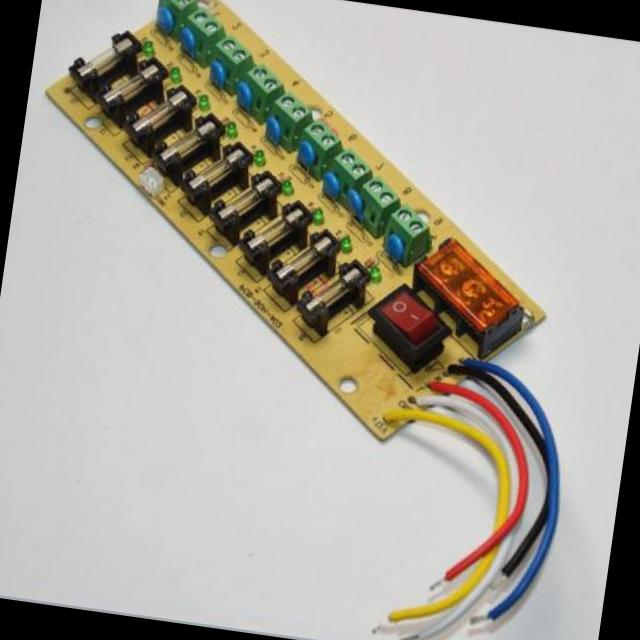LED: (188, 91, 215, 117), (163, 64, 190, 90), (135, 39, 158, 62), (306, 204, 328, 224), (281, 174, 301, 196), (221, 118, 241, 140), (337, 236, 355, 257), (252, 146, 268, 168), (364, 264, 382, 282)
connector: (266, 89, 321, 147), (204, 31, 257, 91), (382, 203, 436, 256), (181, 3, 230, 60), (326, 144, 373, 200), (240, 56, 282, 118), (297, 119, 348, 170), (151, 0, 209, 36), (358, 175, 402, 222), (136, 163, 166, 196)
